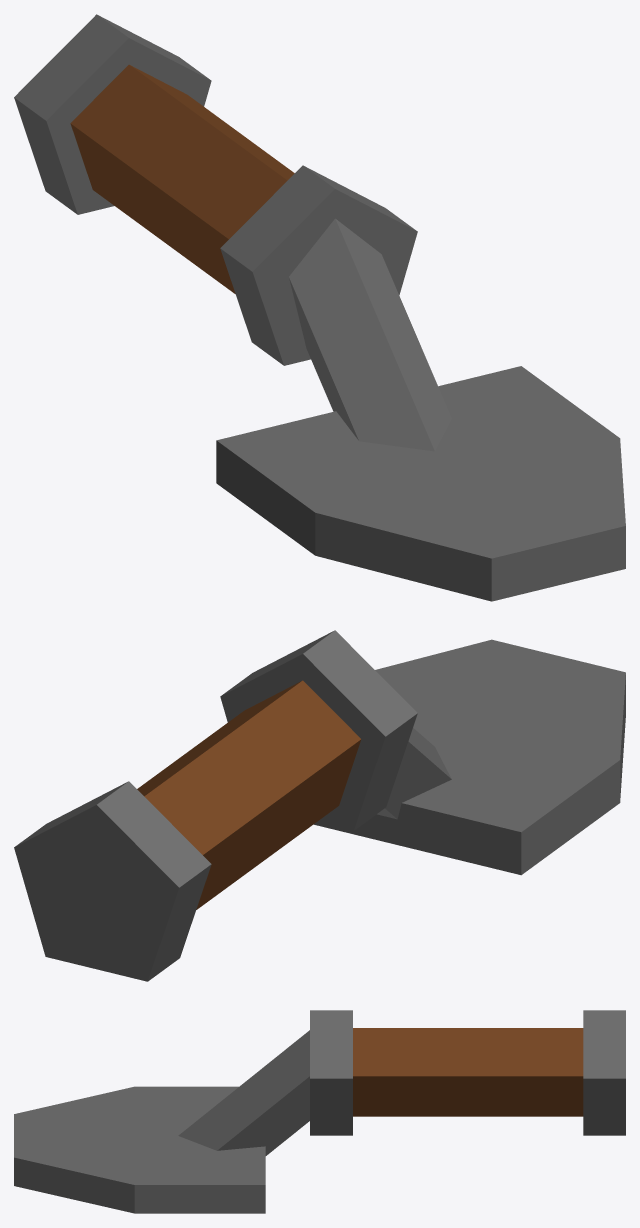
The model's file is trowel.fbx.
The picture shows the model from 3 angles, top to bottom: view 1: azimuth 30°, elevation 25°; view 2: azimuth 150°, elevation 25°; view 3: azimuth 270°, elevation 25°; orthographic projection. The views are drawn at different scales.
Parts seen in each view (by area): view 1: Cylinder; view 2: Cylinder; view 3: Cylinder.
Boxes of the visible parts, left/top/right/bottom form: Cylinder: left=14, top=14, right=625, bottom=601; Cylinder: left=14, top=630, right=625, bottom=981; Cylinder: left=14, top=1010, right=625, bottom=1213.
Size of the model in its own units: 422 by 307 by 1108.
